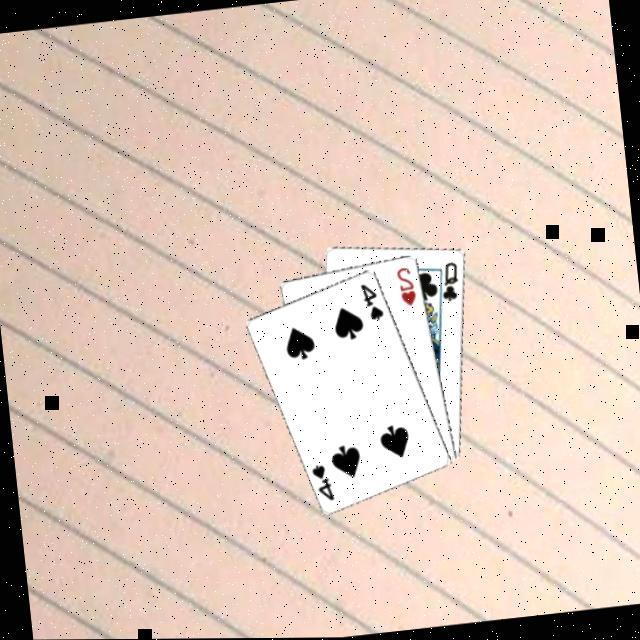2H: (393, 260, 420, 308)
4S: (358, 277, 388, 322), (309, 458, 338, 502)
QC: (436, 255, 464, 302)
